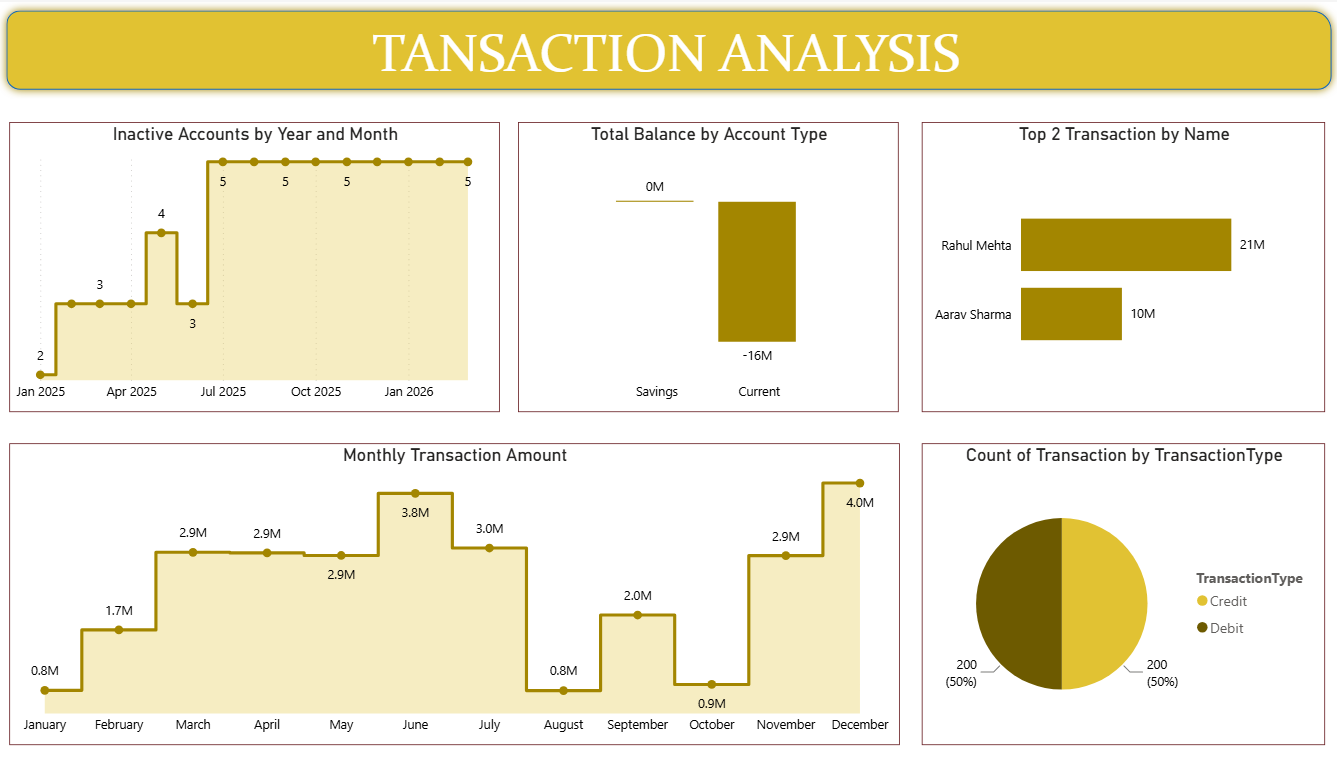

The page's visual inventory and layout, read from the dashboard file:
{"tool":"powerbi","page":{"name":"Transaction Analysis 1","canvas":[1280,720],"ordinal":0},"visuals":[{"type":"lineChart","fields":{"Category":["CombinedBankingDataset.TransactionDate.Variation.Date Hierarchy.Year","CombinedBankingDataset.TransactionDate.Variation.Date Hierarchy.Month"],"Y":["Measure Table 1.Inactive Accounts"]},"box":[10.2,114.8,468,276.7],"z":0},{"type":"shape","box":[0,0,1280.3,91.8],"z":1000},{"type":"clusteredColumnChart","title":"Total Balance by Account Type","fields":{"Y":["Measure Table 1.Total Balance"],"Category":["CombinedBankingDataset.AccountType"]},"box":[496,114.8,363.4,276.7],"z":2000},{"type":"barChart","title":"Top 2 Transaction by Name","fields":{"Y":["Sum(CombinedBankingDataset.Amount)"],"Category":["CombinedBankingDataset.Name"]},"box":[881.1,114.8,385.1,276.7],"z":3000},{"type":"areaChart","title":"Monthly Transaction Amount ","fields":{"Y":["Measure Table 1.Monthly Transaction Amount"],"Category":["CombinedBankingDataset.TransactionDate.Variation.Date Hierarchy.Month"]},"box":[10.2,420.8,849.3,288.2],"z":4000},{"type":"pieChart","title":"Count of Transaction by TransactionType","fields":{"Category":["CombinedBankingDataset.TransactionType"],"Y":["Measure Table 1.Account Count by Type"]},"box":[881,421,385,288],"z":5000}]}

Visuals, with their boxes in screenshot pixels (x1, y1, x2, y2), scaled from the page's 1280x720 canvas onto the 1337x774 screenshot:
lineChart - CombinedBankingDataset.TransactionDate.Variation.Date Hierarchy.Year x CombinedBankingDataset.TransactionDate.Variation.Date Hierarchy.Month: locate(11, 123, 499, 421)
shape: locate(0, 0, 1336, 99)
"Total Balance by Account Type" clusteredColumnChart: locate(518, 123, 898, 421)
"Top 2 Transaction by Name" barChart: locate(920, 123, 1323, 421)
"Monthly Transaction Amount " areaChart: locate(11, 452, 898, 762)
"Count of Transaction by TransactionType" pieChart: locate(920, 453, 1322, 762)
